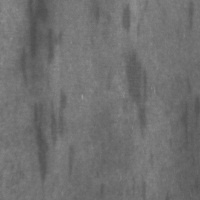inclusion: (24, 86, 69, 193), (18, 1, 59, 88), (118, 44, 150, 142), (173, 74, 198, 149), (117, 1, 137, 37), (62, 141, 78, 183), (183, 2, 198, 30)
